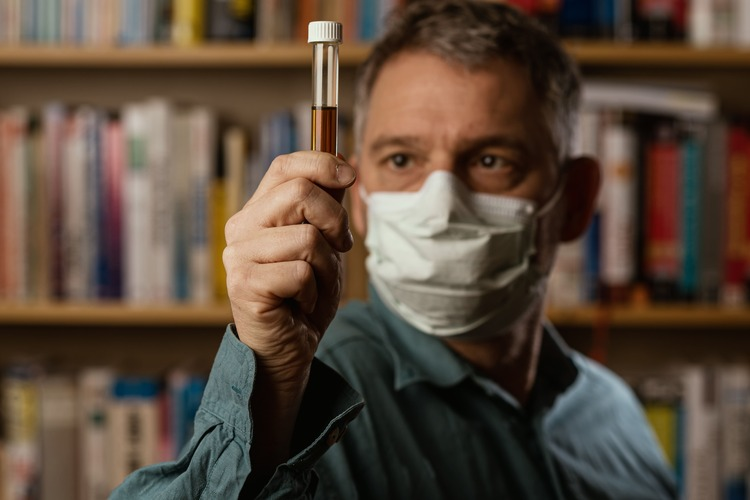with_mask: (363, 62, 553, 297)
